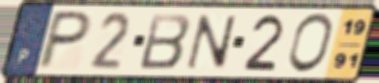2: (241, 13, 286, 73), (88, 11, 132, 72)
B: (137, 11, 194, 71)
N: (185, 13, 239, 71)
O: (285, 11, 336, 76)
P: (33, 8, 96, 71)
